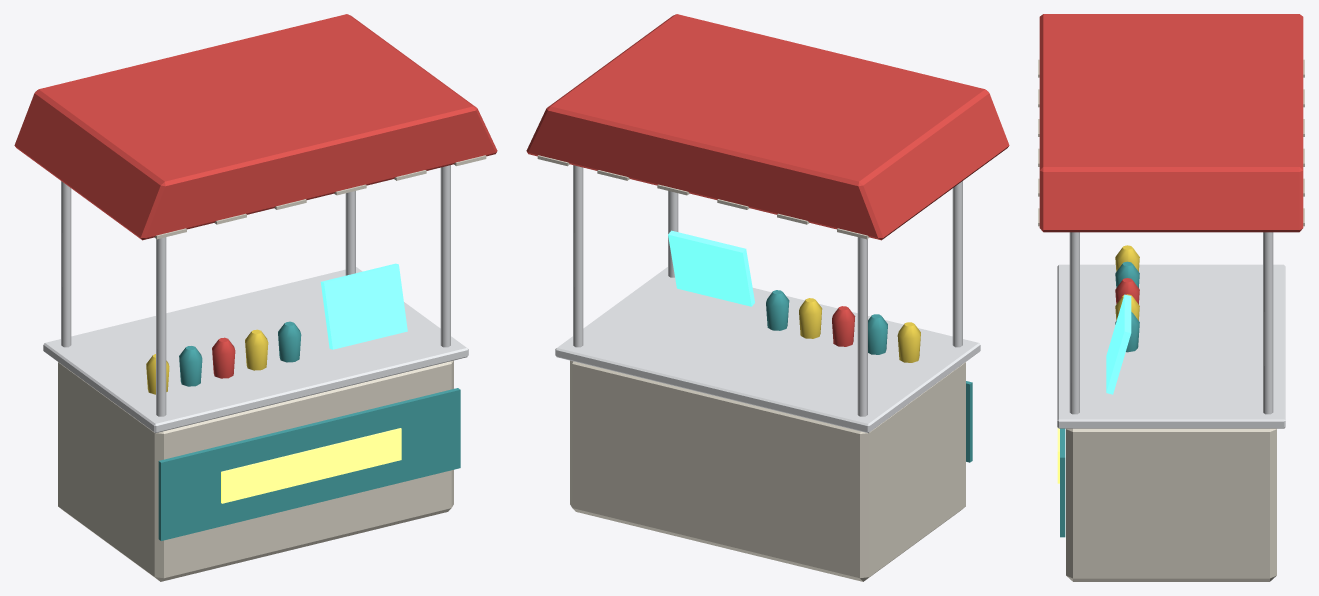
Rendered from mp_kiosk.glb.
The picture shows the model from 3 angles, left to right: view 1: azimuth 30°, elevation 25°; view 2: azimuth 150°, elevation 25°; view 3: azimuth 270°, elevation 25°; orthographic projection.
Visible parts, largest first — view 1: mp_kiosk; view 2: mp_kiosk; view 3: mp_kiosk.
Part boxes in pixels (box(x1,y1,x2,y2)): mp_kiosk: box(14, 14, 497, 581); mp_kiosk: box(526, 14, 1009, 581); mp_kiosk: box(1038, 14, 1304, 581).
Size of the model in its own units: 2.38 by 2.64 by 1.52.
